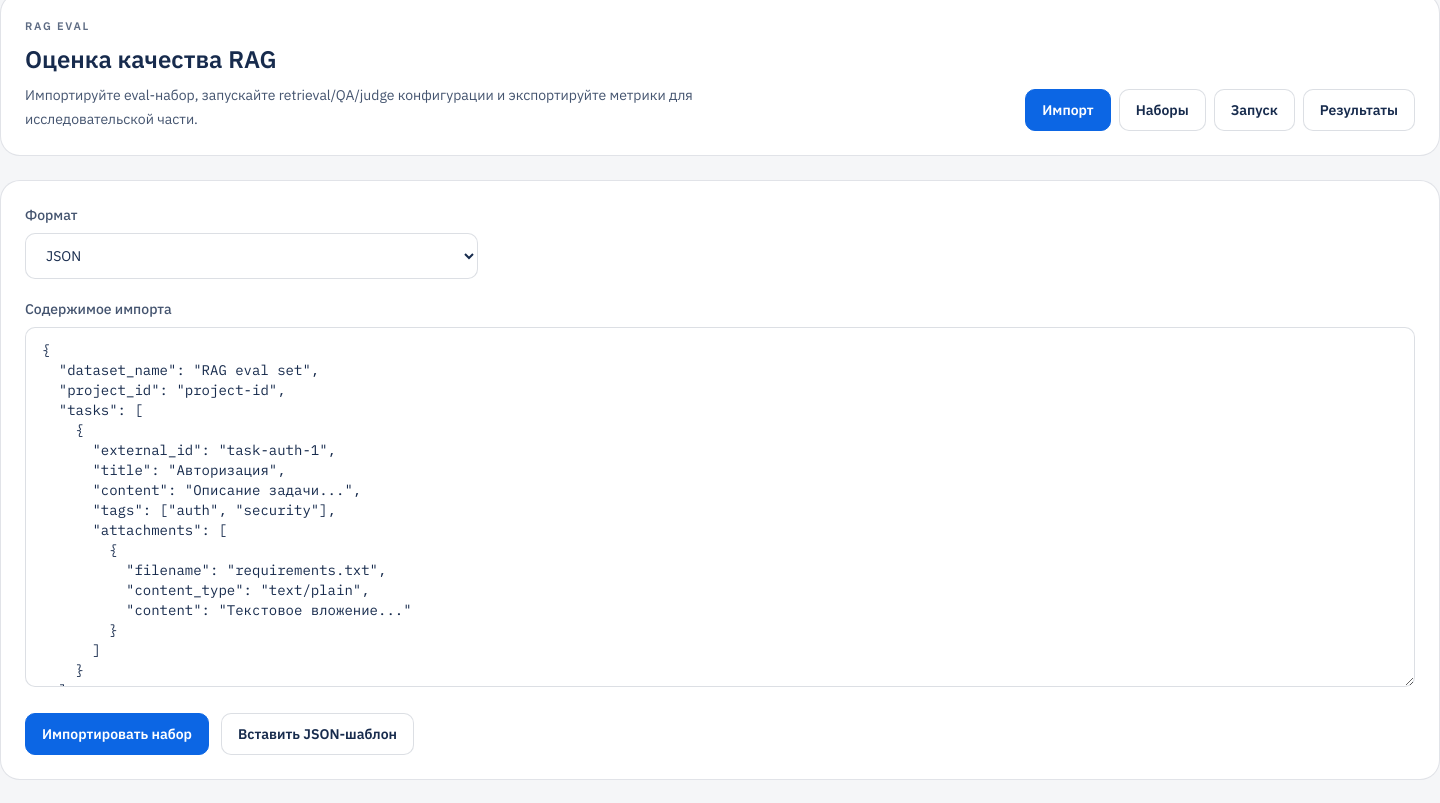
it: RagEvalPage › opens a saved run from history and renders retrieval details as UI
Check: the heading "Оценка качества RAG" is shown, box [25, 42, 277, 74]
What coordinates should you click on to do the following:
click the button "Запуск"
I would click on:
 (1254, 110)
Its box is [1214, 88, 1295, 130].
(page scrolled)
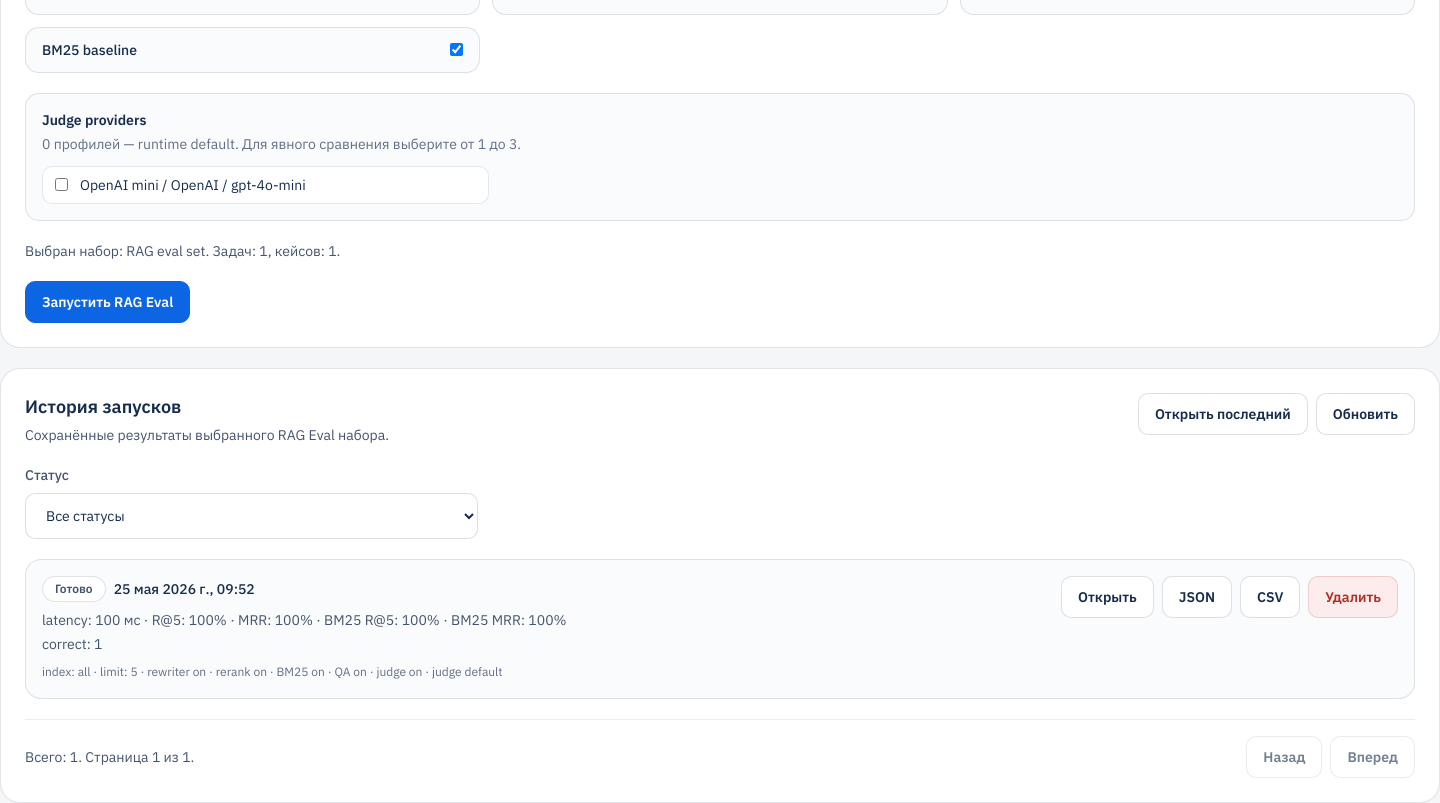
Check: the heading "История запусков" is shown, box [25, 394, 181, 418]
What coordinates should you click on to do the following:
click the button "Открыть"
I would click on:
 (1107, 596)
Its box is [1061, 576, 1154, 618].
(page scrolled)
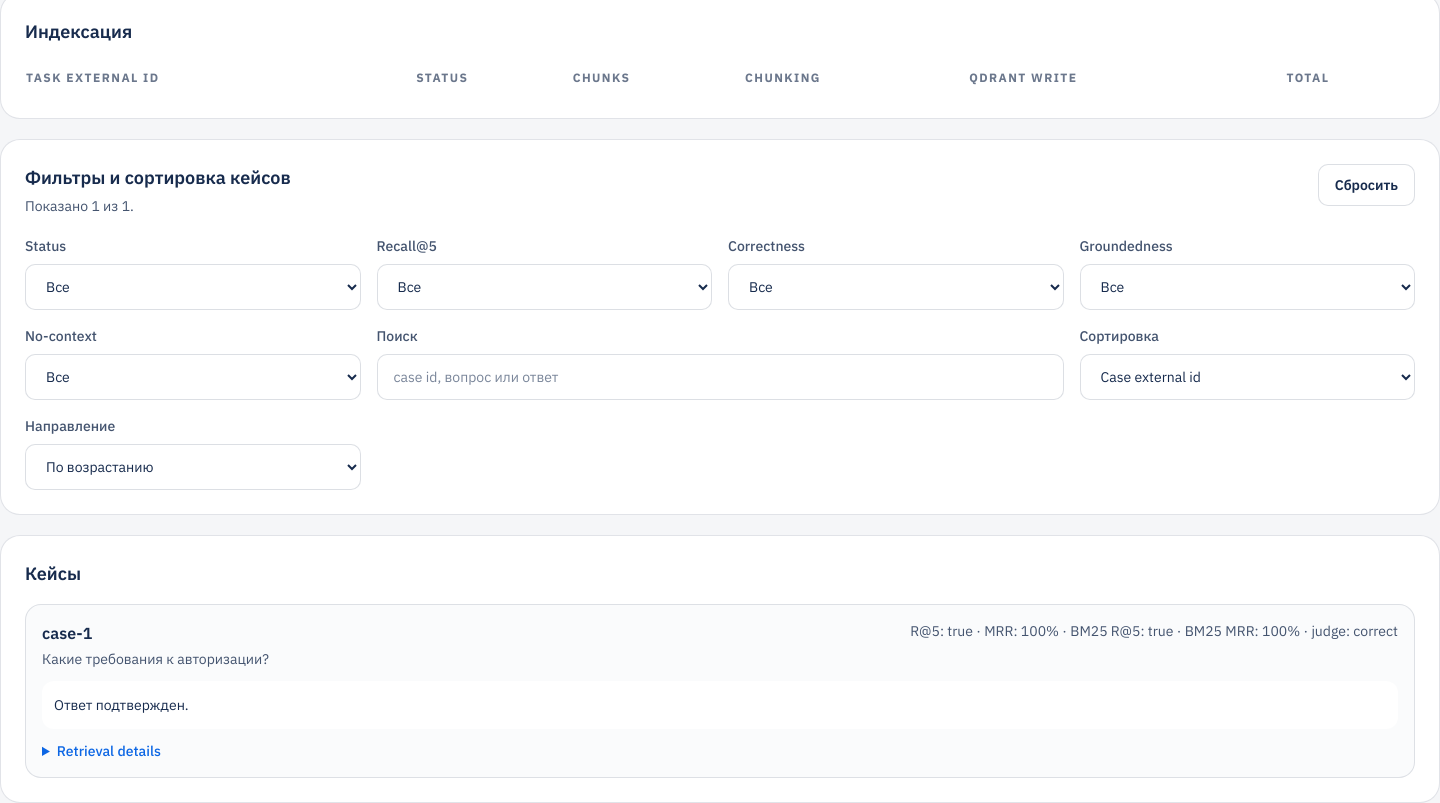
What coordinates should you click on to do the following:
click the heading "Retrieval details"
I would click on:
 (109, 751)
Its box is [57, 742, 161, 760].
(page scrolled)
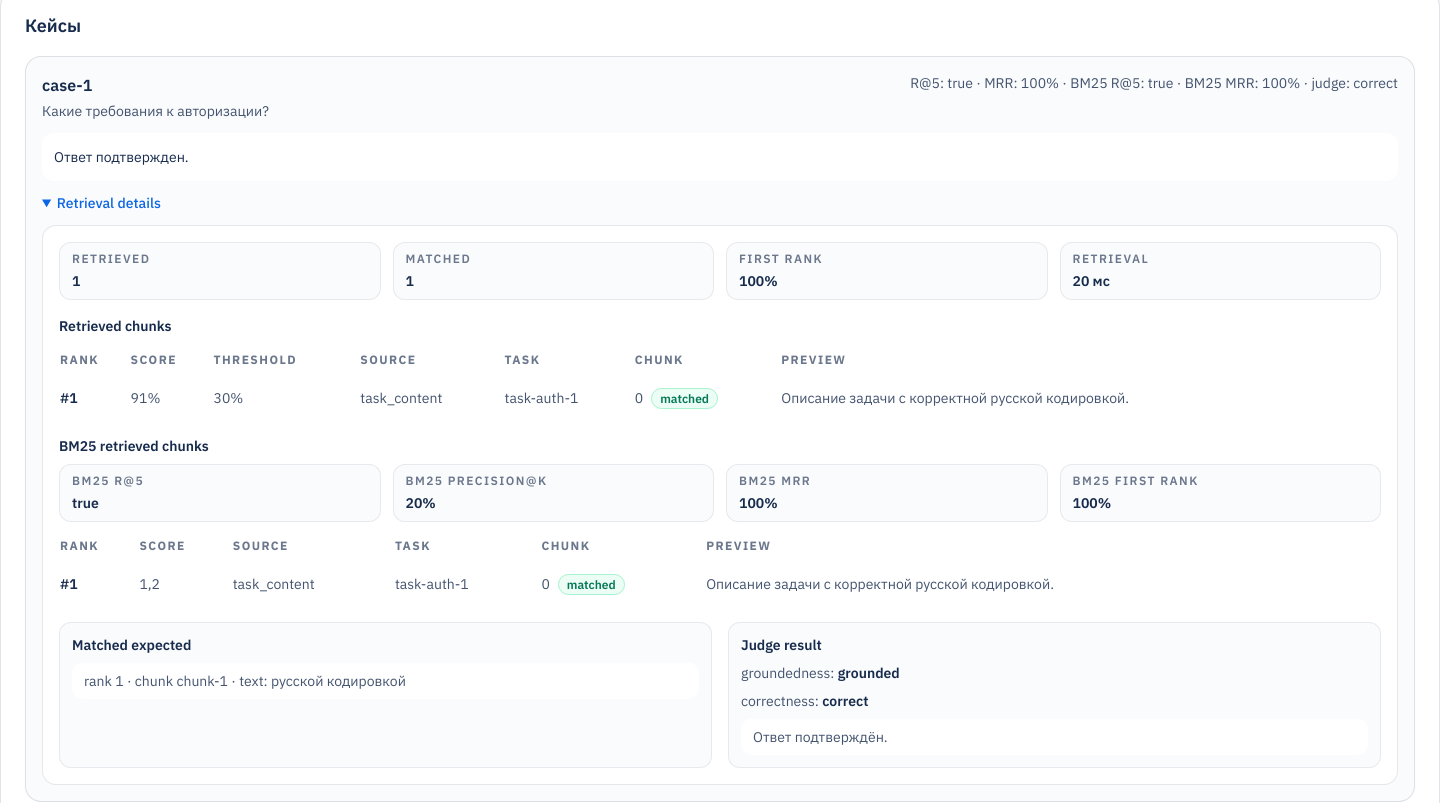
Check: the heading "Retrieved chunks" is shown, box [59, 317, 172, 335]
Check: the heading "BM25 retrieved chunks" is shown, box [59, 437, 209, 455]
Check: the heading "Matched expected" is shown, box [72, 636, 191, 654]
